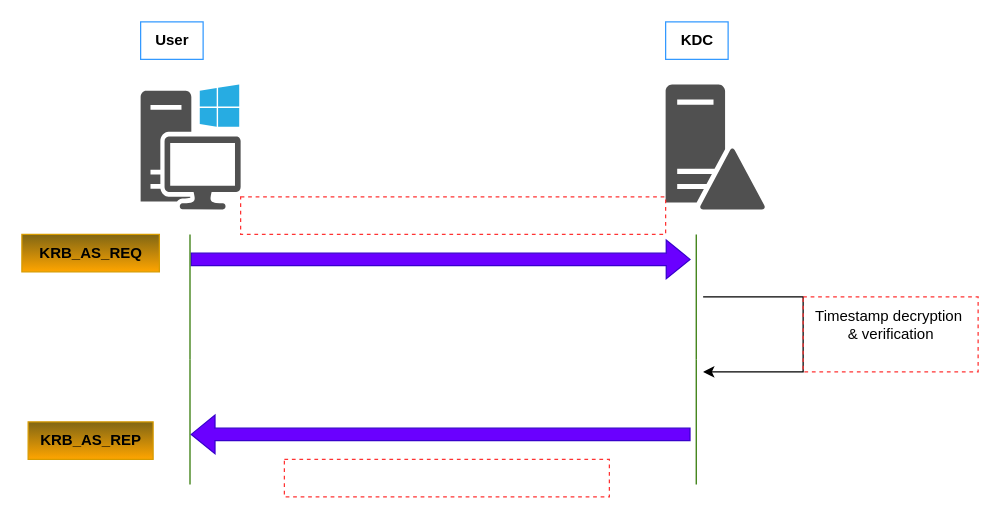
Some shapes in this 1000 by 519 pixel diagram are drawn without their labels. Here are the shapes that lost their labels. From the top down, the centre of each, then its label:
At point (452, 215): "Pre-authentication data (timestamp) encrypted with user key".
At point (446, 477): "TGT & Session key encrypted with user key".
